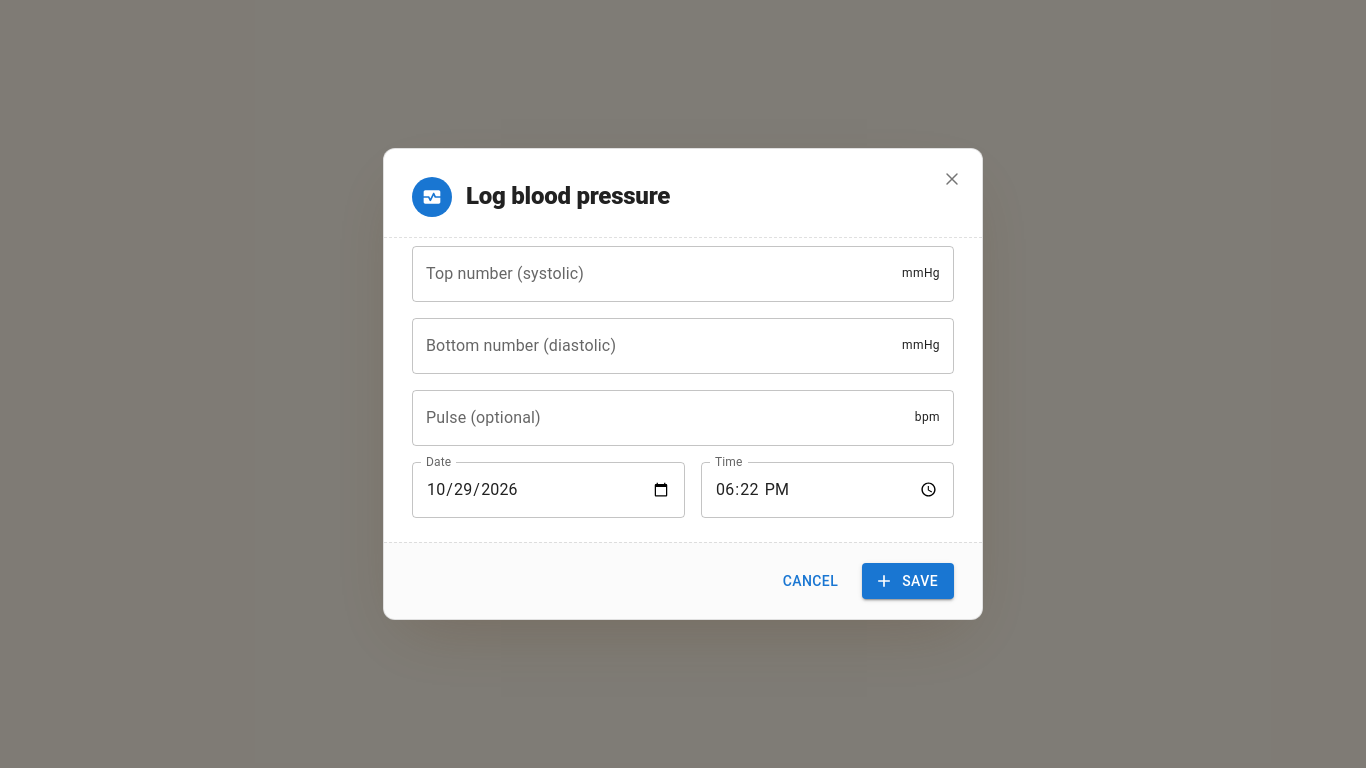
it: AddBPDialog — live-typing category matches the saved row › 190/70 shows Crisis while typing, and never the non-standard High Normal band
The width and height of the screenshot is (1366, 768).
In the number field labelled "Top number (systolic)": {"x": 657, "y": 274} [412,246,902,302], type "190"
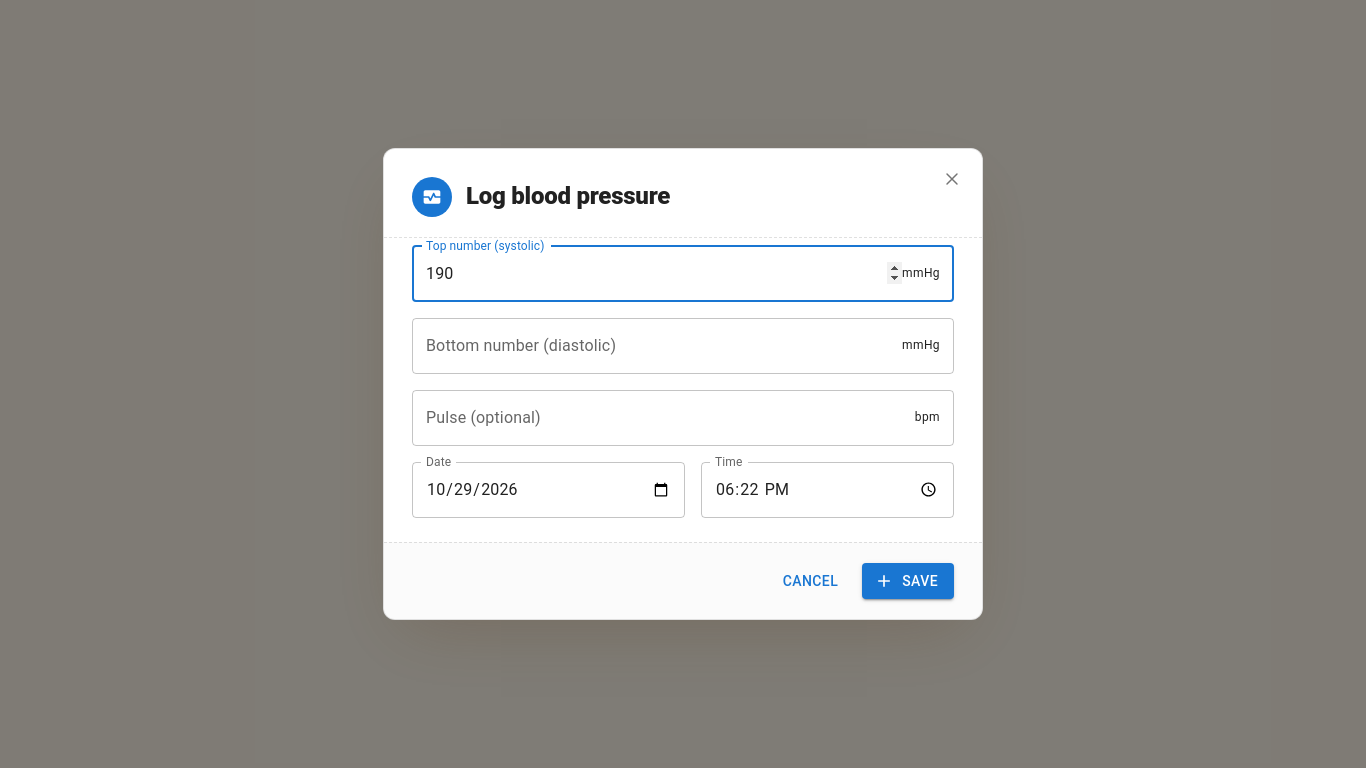
In the number field labelled "Bottom number (diastolic)": {"x": 657, "y": 346} [412,318,902,374], type "70"
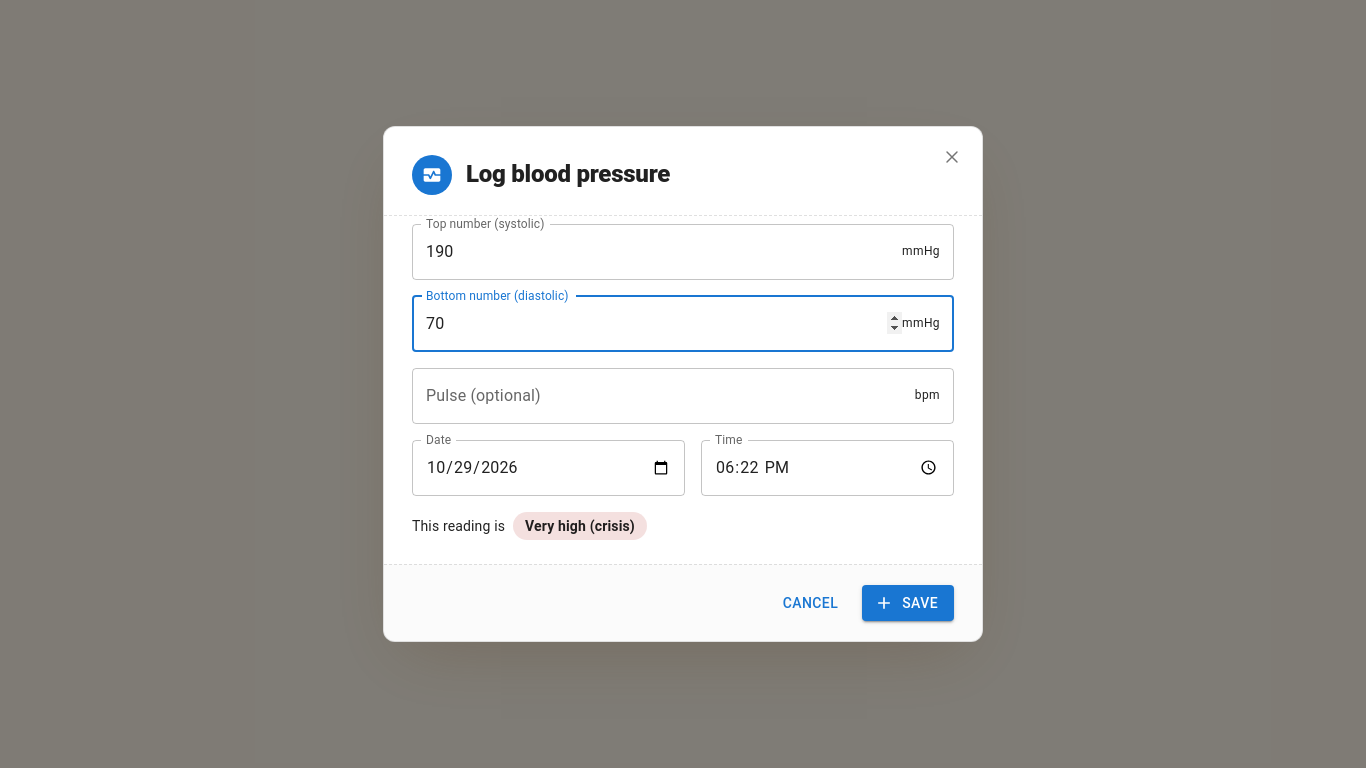
Expected: the text "Very high (crisis)" is shown, [513,512,647,540]
